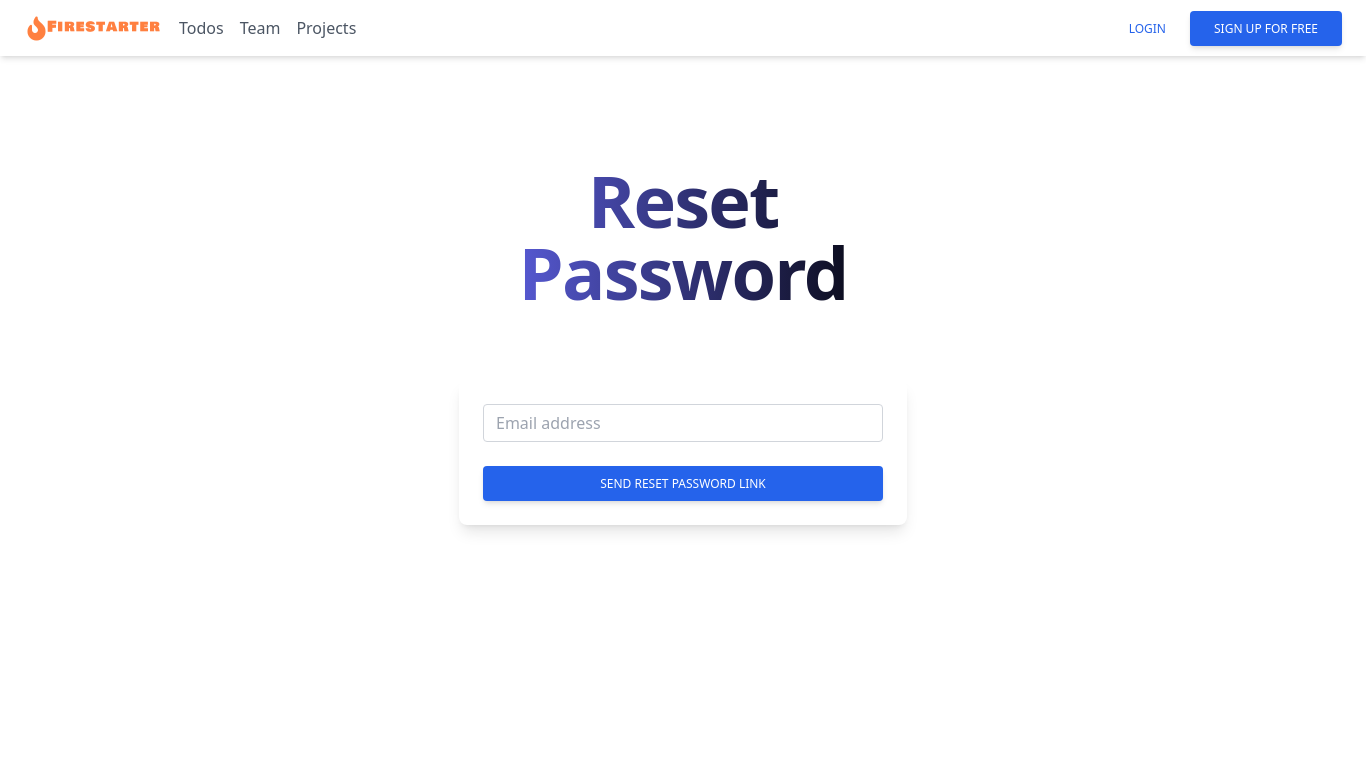
Scenario: ResetPassword › validates the email address exists
Type "me@them.com" into the field with placeholder "Email address" at (683, 423), box [483, 404, 883, 442]
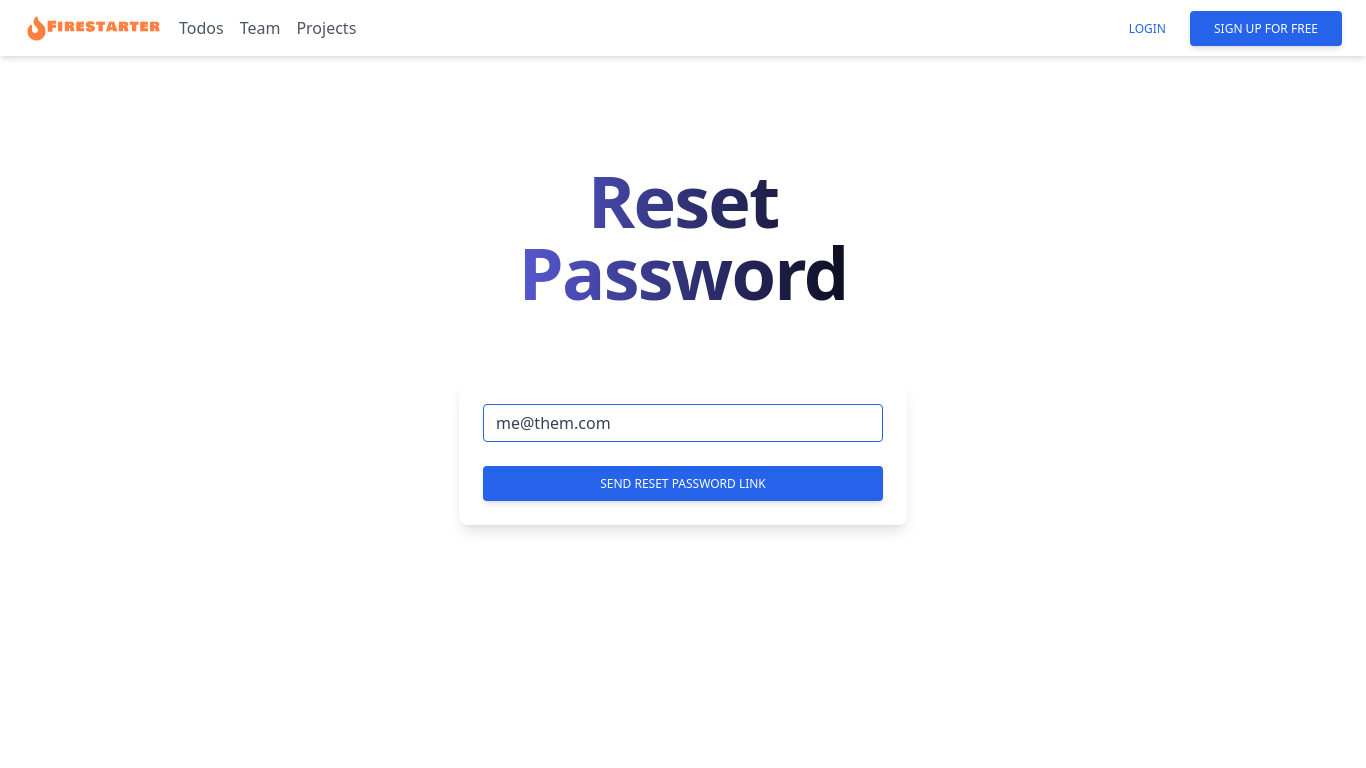
Clear the field with placeholder "Email address" at (683, 423), box [483, 404, 883, 442]
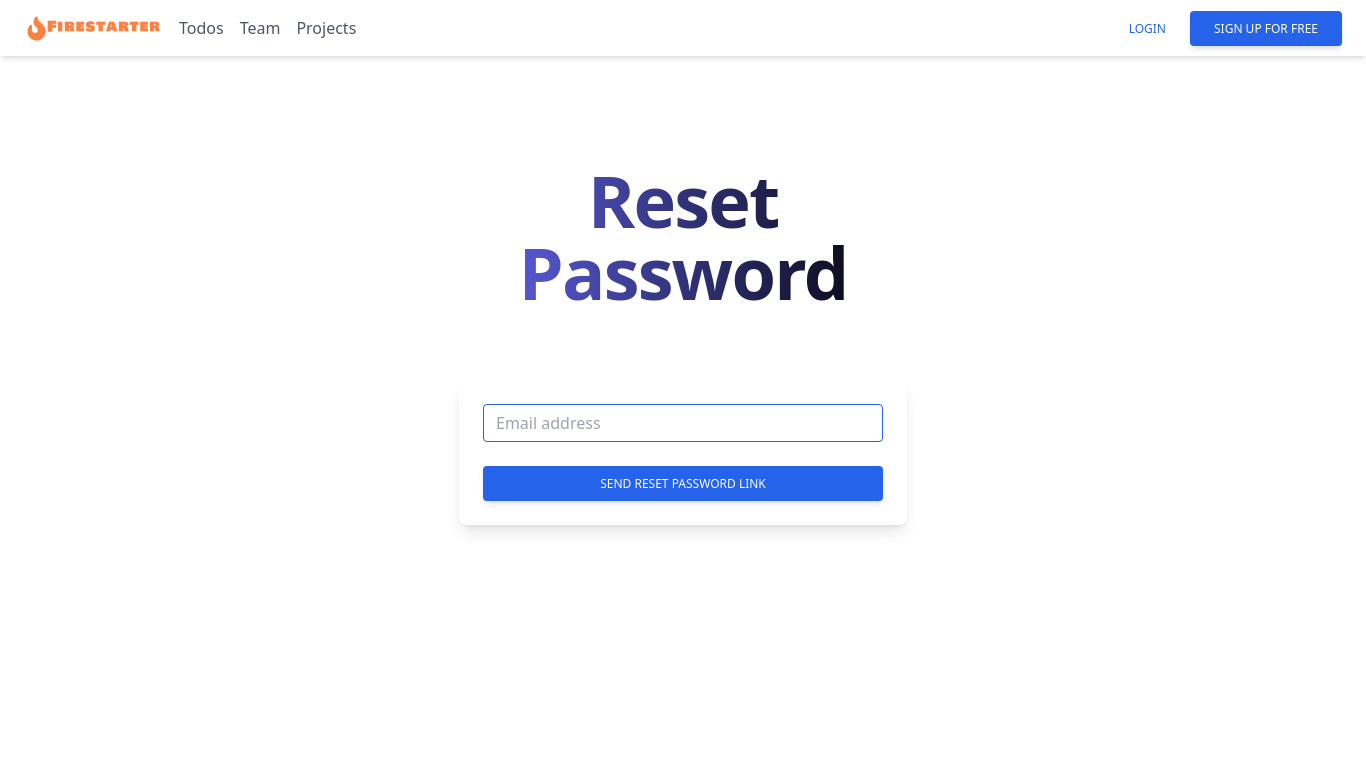
Click the button "Send Reset Password Link" at (683, 484), box [483, 466, 883, 501]
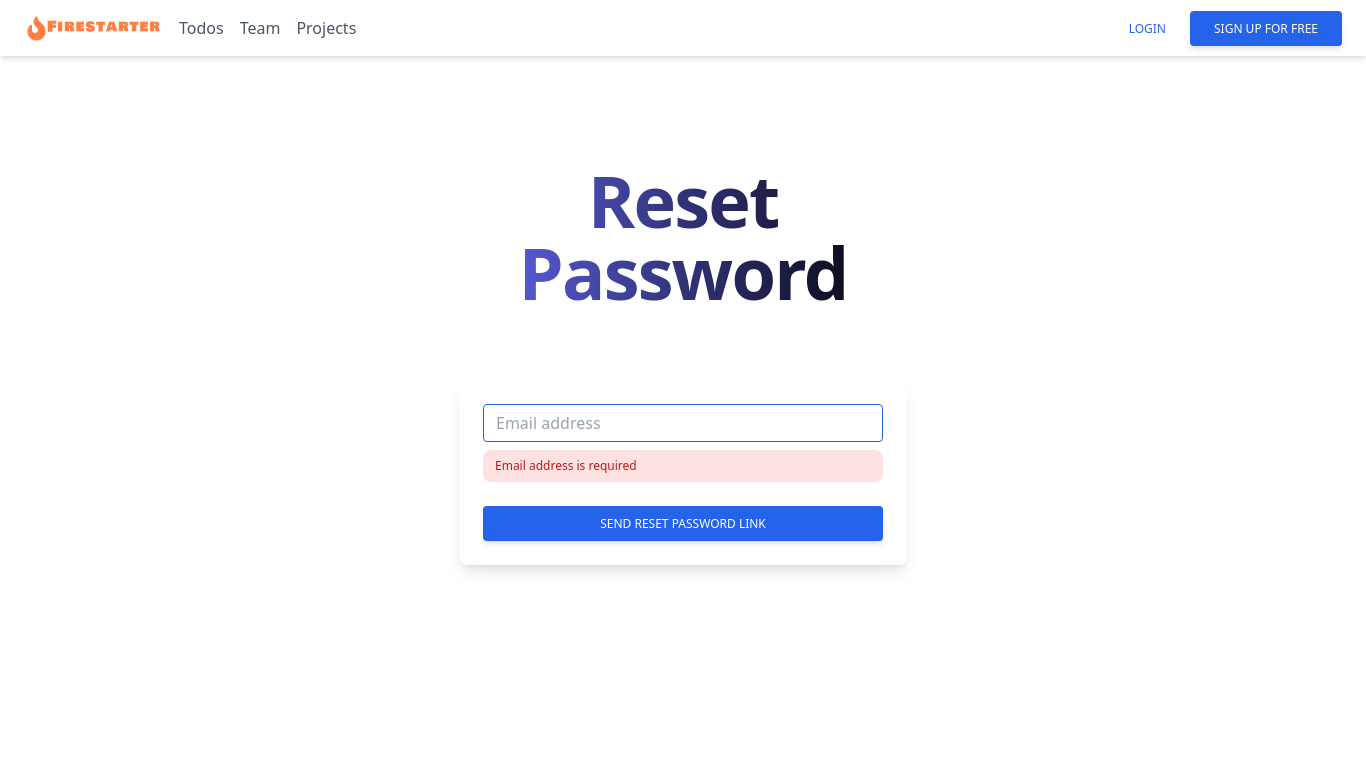
Result: the number of messages is 1 at [483, 450, 883, 482]
Result: the message reads "Email address is required" at [495, 457, 637, 474]
